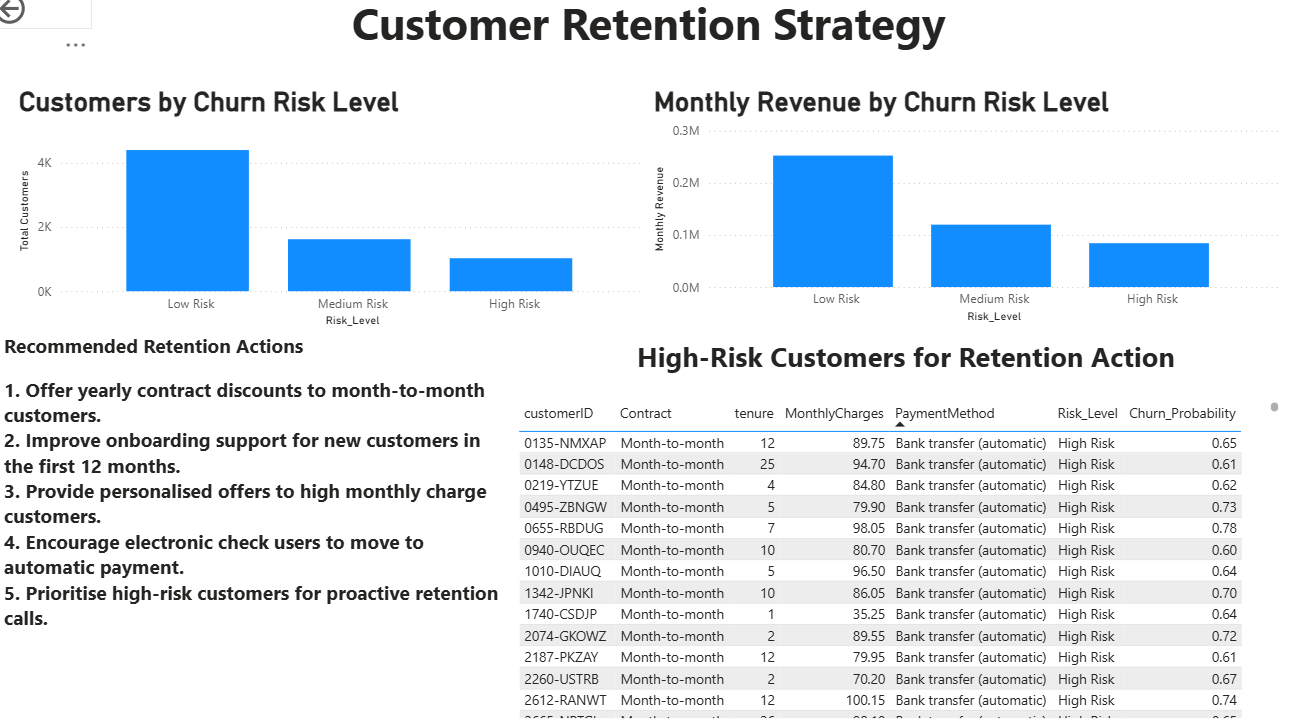

What the dashboard file says about the page in this screenshot:
{"tool":"powerbi","page":{"name":"Retention Strategy","canvas":[1280,720],"ordinal":2},"visuals":[{"type":"textbox","box":[9.6,0,1270.7,83.7],"z":0},{"type":"clusteredColumnChart","title":"Customers by Churn Risk Level","fields":{"Category":["customer_churn_powerbi.Risk_Level"],"Y":["customer_churn_powerbi.Total Customers"]},"box":[24.3,95.7,621.3,241.2],"z":1000},{"type":"clusteredColumnChart","title":"Monthly Revenue by Churn Risk Level","fields":{"Category":["customer_churn_powerbi.Risk_Level"],"Y":["customer_churn_powerbi.Monthly Revenue"]},"box":[645.5,95.7,621.3,237.2],"z":2000},{"type":"tableEx","fields":{"Values":["customer_churn_powerbi.customerID","customer_churn_powerbi.Contract","customer_churn_powerbi.tenure","customer_churn_powerbi.MonthlyCharges","customer_churn_powerbi.PaymentMethod","customer_churn_powerbi.Risk_Level","customer_churn_powerbi.Churn_Probability"]},"box":[512.1,400.3,754.7,319.4],"z":3000},{"type":"actionButton","box":[0,0,100,40],"z":4000},{"type":"textbox","box":[9.4,332.9,502.7,374.6],"z":5000},{"type":"textbox","box":[526.9,336.9,739.9,47.2],"z":5001}]}

Visuals, with their boxes on the page's 1280x720 design canvas (x1, y1, x2, y2). These are canvas units, not pixel positions in the 1292x724 screenshot, which may show the page scaled, cropped or inside an application window:
textbox: BBox(10, 0, 1280, 84)
"Customers by Churn Risk Level" clusteredColumnChart: BBox(24, 96, 646, 337)
"Monthly Revenue by Churn Risk Level" clusteredColumnChart: BBox(646, 96, 1267, 333)
tableEx - customer_churn_powerbi.customerID x customer_churn_powerbi.Contract: BBox(512, 400, 1267, 720)
actionButton: BBox(0, 0, 100, 40)
textbox: BBox(9, 333, 512, 708)
textbox: BBox(527, 337, 1267, 384)
